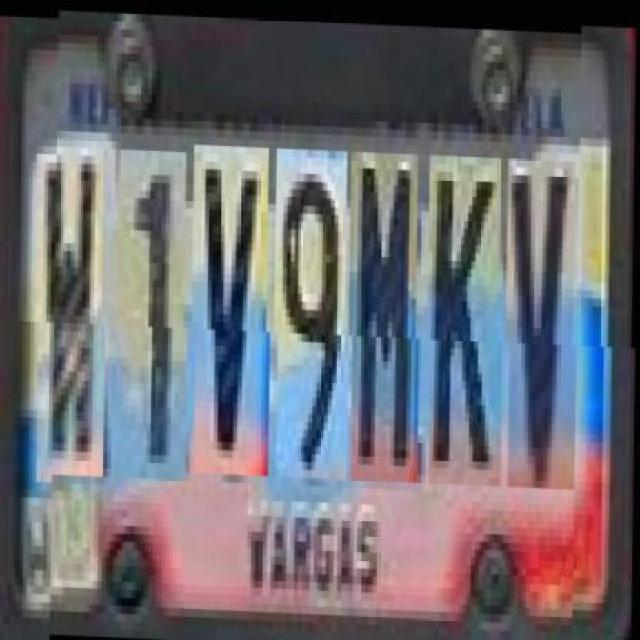1: (120, 148, 191, 480)
9: (278, 146, 352, 477)
k: (430, 150, 504, 482)
m: (352, 148, 422, 480)
v: (195, 143, 272, 474), (508, 153, 580, 484)
w: (38, 146, 108, 477)
